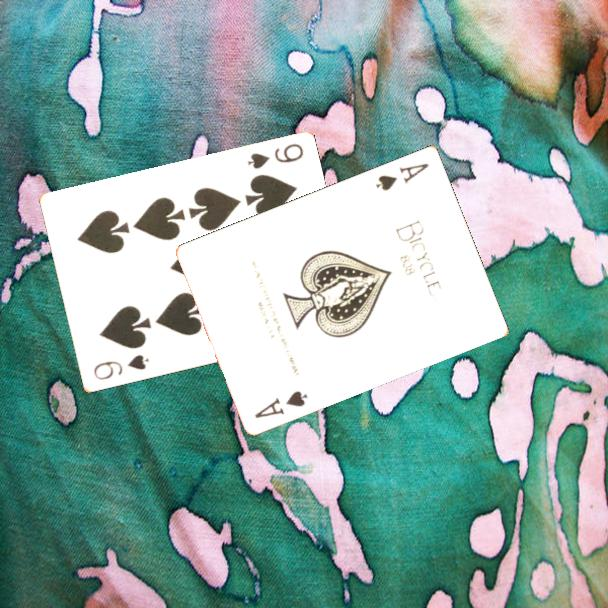s01: (251, 387, 311, 421), (373, 159, 432, 193)
s09: (244, 140, 306, 172), (90, 352, 151, 383)
